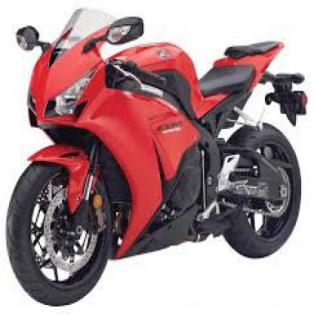Motocicleta: (1, 0, 310, 310)
